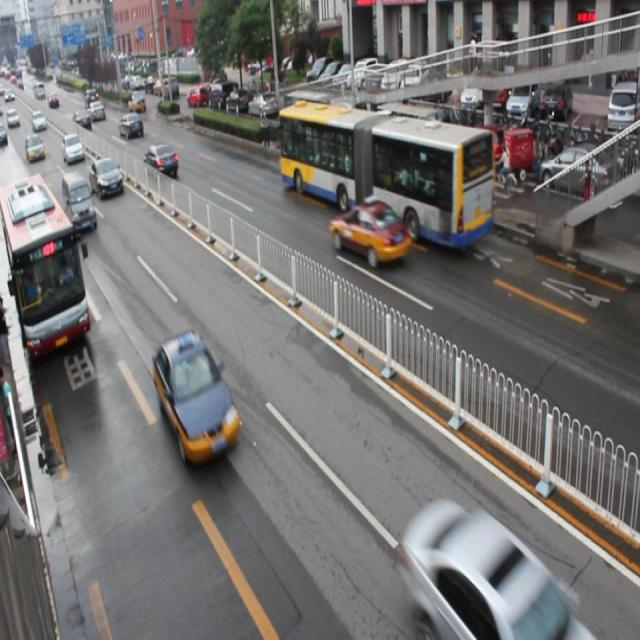car: (402, 502, 590, 640), (153, 332, 240, 466), (329, 197, 412, 270), (89, 158, 124, 200), (144, 143, 178, 177), (119, 112, 144, 138)
truck: (62, 171, 98, 234)
van: (278, 98, 493, 252), (1, 175, 92, 363)
